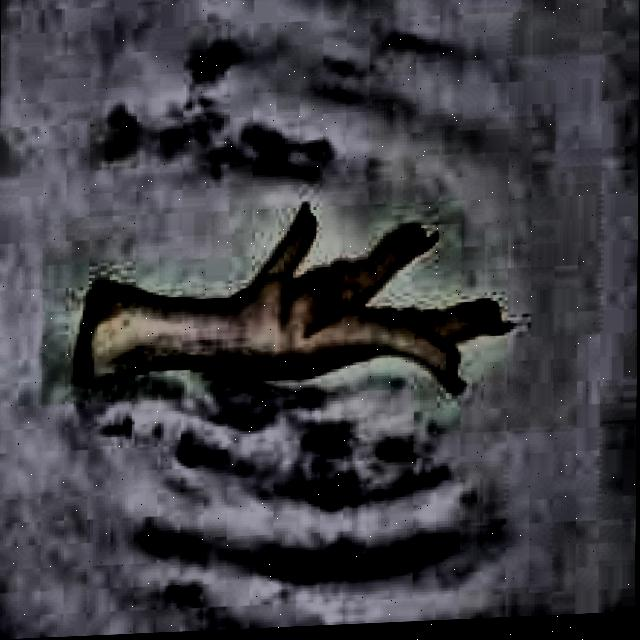Bumble foot: (289, 266, 342, 320)
